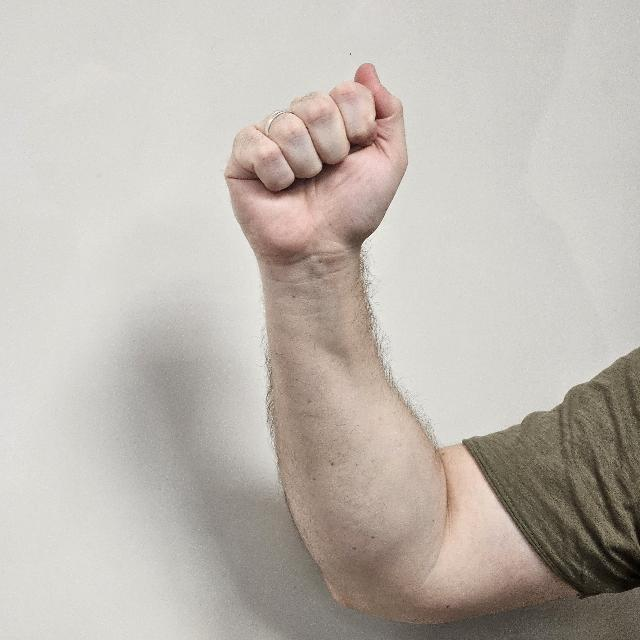Quadro: (223, 67, 411, 249)
